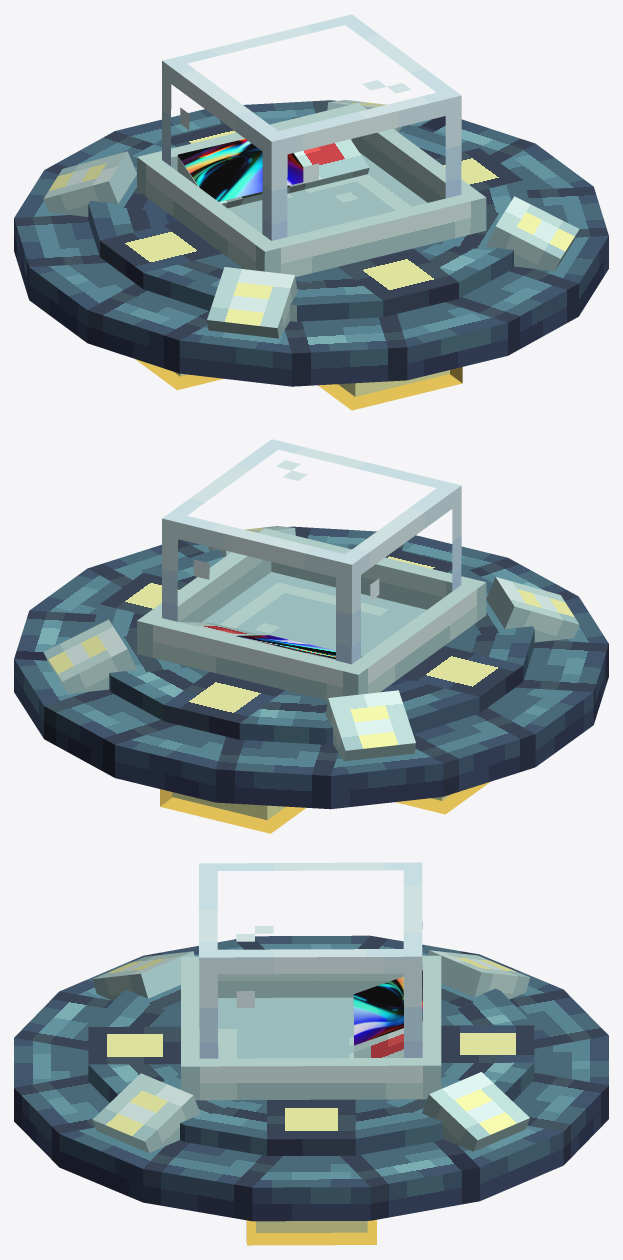
The model's file is ufo1.glb.
3 renders of one model, top to bottom at view 1: azimuth 30°, elevation 25°; view 2: azimuth 150°, elevation 25°; view 3: azimuth 270°, elevation 25°, orthographic.
Parts seen in each view (by area): view 1: cube.004, cube.006, cube.005, hexadecagon.009, hexadecagon.010, hexadecagon.012, hexadecagon.013, cube.007, hexadecagon.015, hexadecagon.011, hexadecagon.001, hexadecagon.003 (+14 smaller); view 2: cube.004, cube.006, cube.005, hexadecagon.012, hexadecagon.011, hexadecagon.013, hexadecagon.009, hexadecagon.015, hexadecagon.010, hexadecagon.001, hexadecagon.003, hexadecagon.008 (+14 smaller); view 3: cube.004, cube.006, cube.005, hexadecagon.015, hexadecagon.011, hexadecagon.009, hexadecagon.012, hexadecagon.010, hexadecagon.003, hexadecagon.013, cube, cube.001 (+14 smaller).
Part boxes in pixels (x1,y1,x2,y2): cube.004: [137, 103, 486, 276]; cube.006: [162, 14, 461, 240]; cube.005: [171, 132, 445, 236]; hexadecagon.009: [220, 100, 407, 386]; hexadecagon.010: [87, 116, 535, 373]; hexadecagon.012: [44, 131, 578, 355]; hexadecagon.013: [115, 109, 507, 380]; cube.007: [177, 139, 369, 208]; hexadecagon.015: [29, 143, 593, 342]; hexadecagon.011: [14, 186, 608, 299]; hexadecagon.001: [99, 148, 522, 288]; hexadecagon.003: [171, 123, 458, 316]; cube.004: [137, 528, 486, 700]; cube.006: [162, 439, 461, 664]; cube.005: [177, 556, 452, 656]; hexadecagon.012: [215, 526, 403, 809]; hexadecagon.011: [87, 539, 535, 796]; hexadecagon.013: [115, 535, 507, 802]; hexadecagon.009: [44, 558, 578, 777]; hexadecagon.015: [29, 568, 593, 766]; hexadecagon.010: [14, 610, 608, 724]; hexadecagon.001: [100, 572, 523, 712]; hexadecagon.003: [164, 549, 452, 739]; hexadecagon.008: [182, 526, 443, 808]; cube.004: [181, 955, 441, 1100]; cube.006: [199, 862, 422, 1058]; cube.005: [217, 964, 422, 1058]; hexadecagon.015: [252, 935, 370, 1221]; hexadecagon.011: [143, 935, 479, 1220]; hexadecagon.009: [14, 991, 608, 1164]; hexadecagon.012: [14, 989, 608, 1166]; hexadecagon.010: [143, 939, 479, 1220]; hexadecagon.003: [88, 1025, 534, 1064]; hexadecagon.013: [14, 1035, 608, 1087]; cube: [422, 1072, 529, 1151]; cube.001: [92, 1073, 200, 1152].
Size of the model in its own units: 2 by 0.9421 by 2.
Materials: 2 (2 with a texture image).
